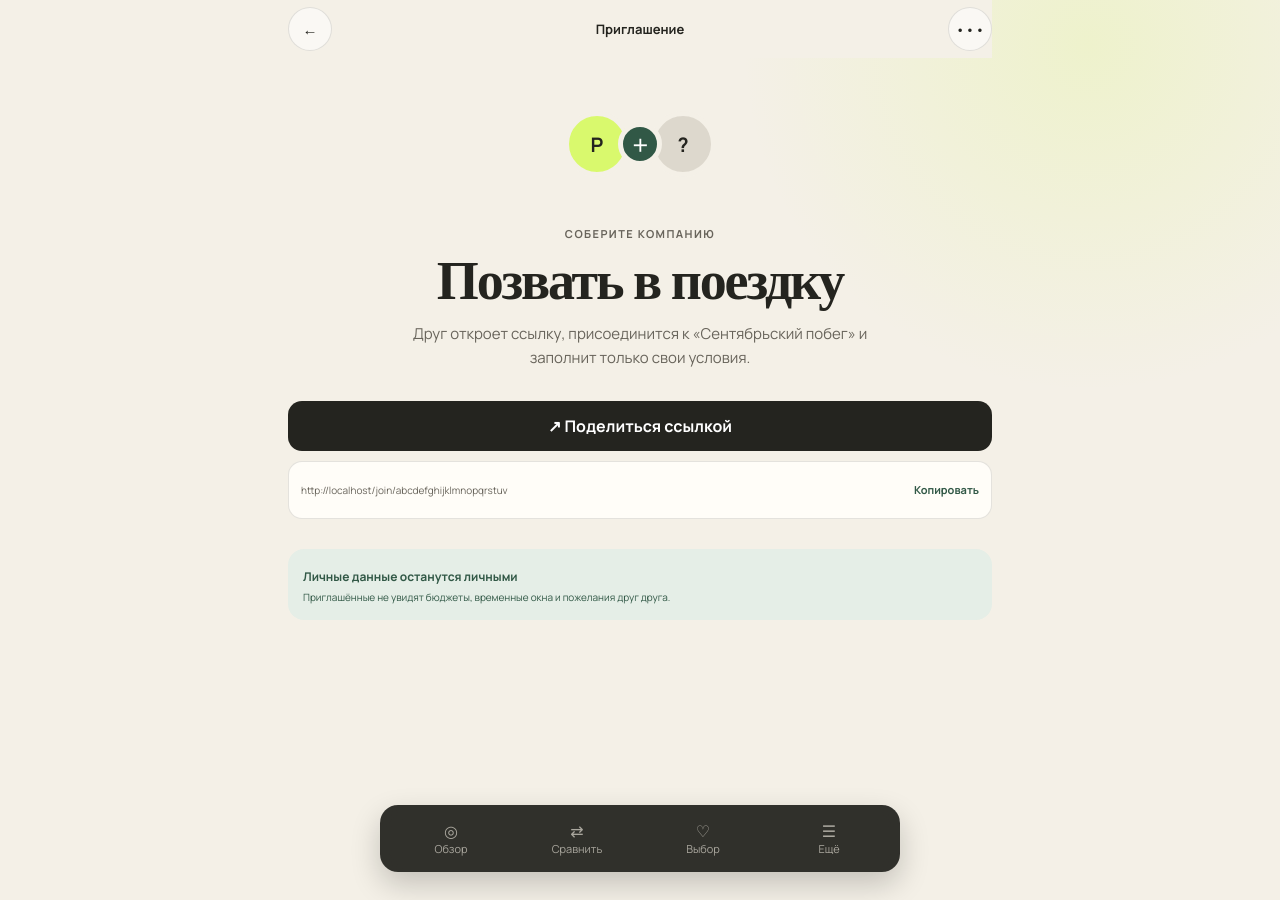
Test: core trip pages › copies a working invite URL
Click the button "http://localhost/join/abcdefghijklmnopqrstuv Копировать" at (404, 490), box [288,461,992,519]
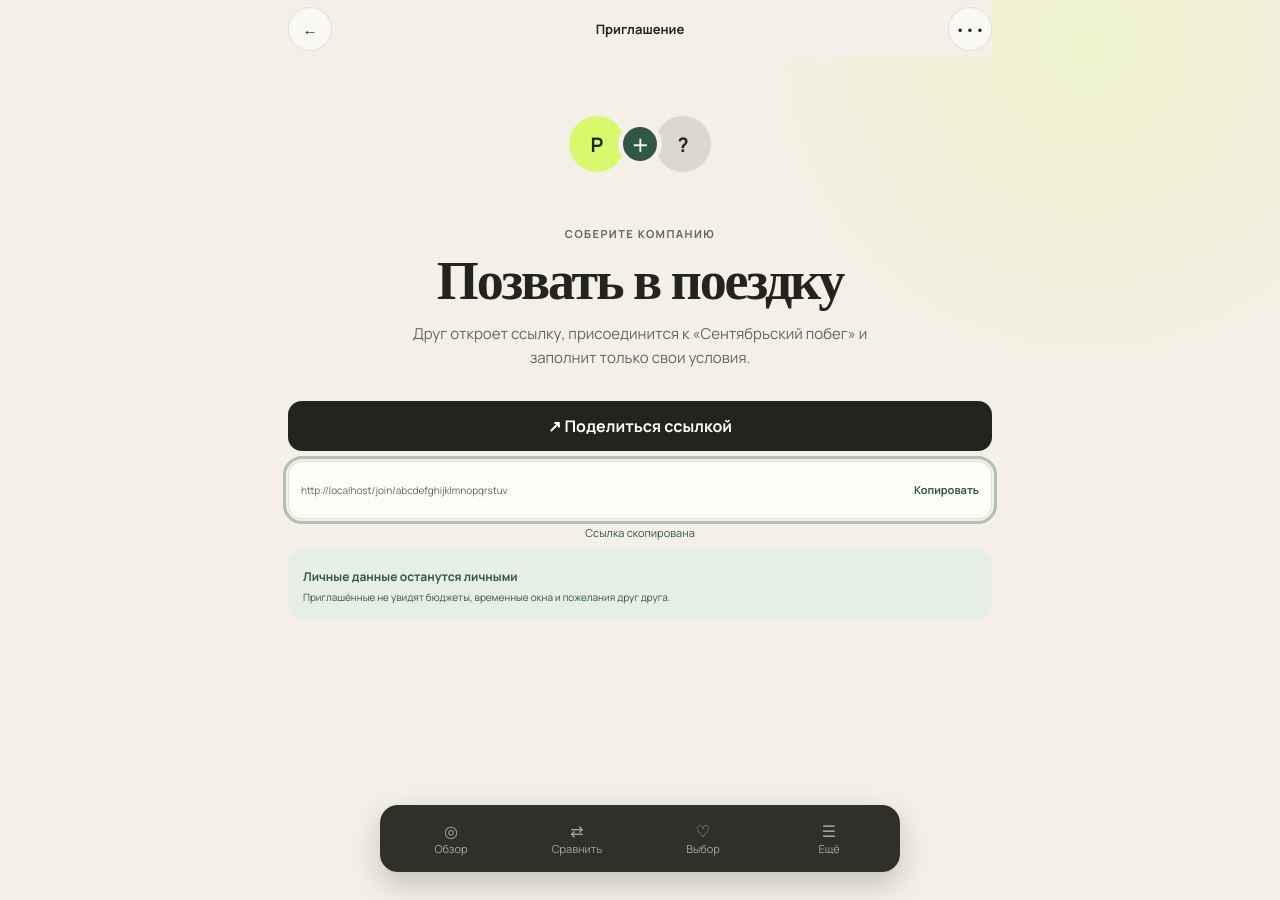
Check: the text "Ссылка скопирована" is shown, box [585,525,695,540]
